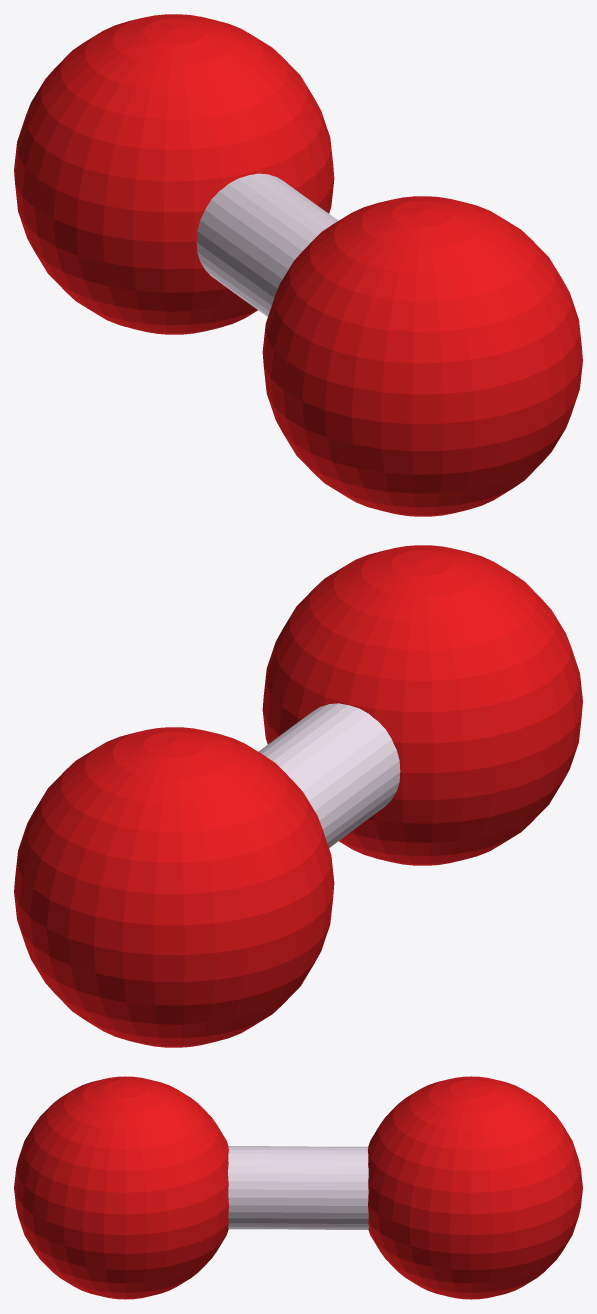
The model's file is twoballs.glb.
The picture shows the model from 3 angles, top to bottom: view 1: azimuth 30°, elevation 25°; view 2: azimuth 150°, elevation 25°; view 3: azimuth 270°, elevation 25°; orthographic projection. The views are drawn at different scales.
Parts seen in each view (by area): view 1: Sphere.003, Sphere, Cylinder.001; view 2: Sphere, Sphere.003, Cylinder.001; view 3: Sphere, Sphere.003, Cylinder.001.
Part boxes in pixels (bbox=[...]): Sphere.003: bbox=[262, 196, 582, 516]; Sphere: bbox=[14, 14, 334, 334]; Cylinder.001: bbox=[196, 173, 338, 316]; Sphere: bbox=[14, 727, 334, 1047]; Sphere.003: bbox=[262, 545, 582, 865]; Cylinder.001: bbox=[258, 703, 400, 847]; Sphere: bbox=[367, 1076, 582, 1299]; Sphere.003: bbox=[14, 1076, 228, 1299]; Cylinder.001: bbox=[228, 1146, 368, 1229].
Size of the model in its own units: 2 by 2 by 5.1.
